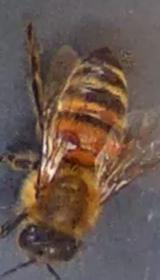varroa_mite: (46, 117, 88, 159)
